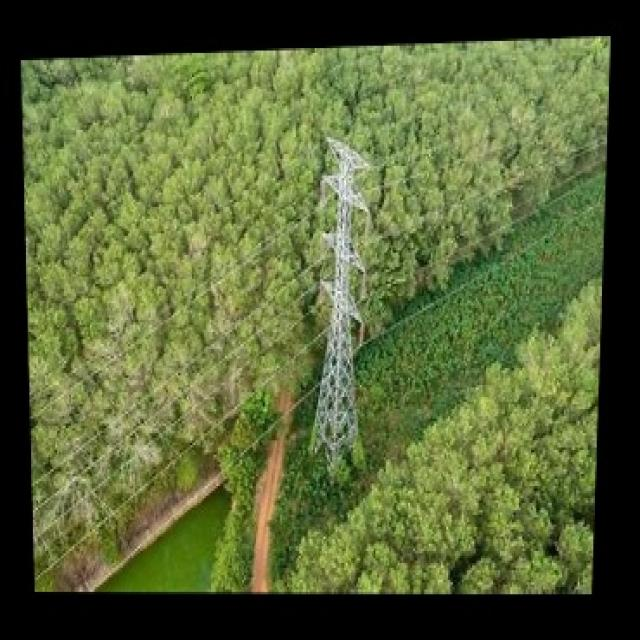utility poles: (310, 125, 378, 504)
